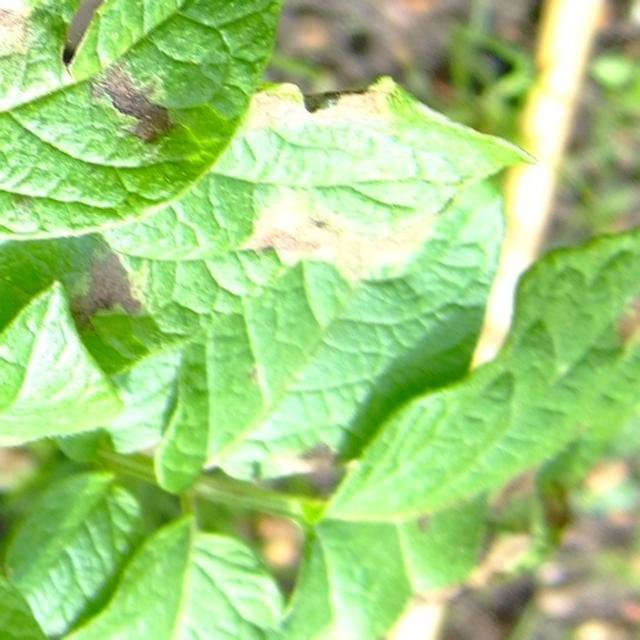Tomato leaf late blight: (0, 0, 341, 230)
